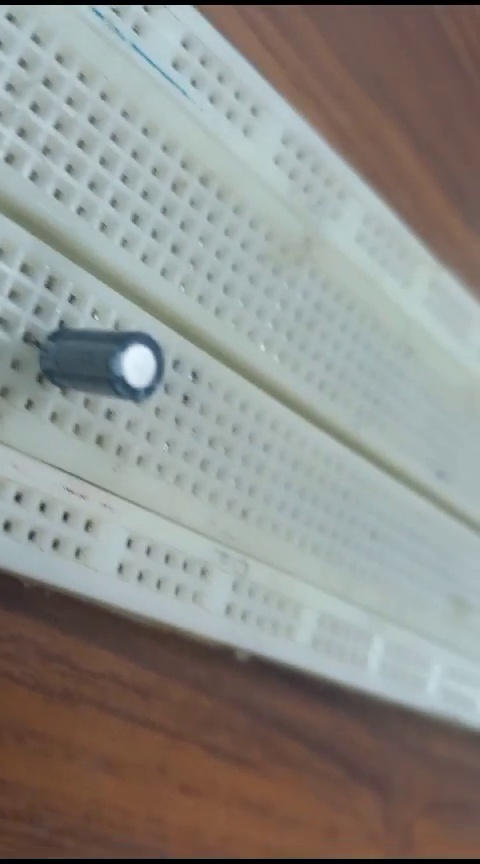capacitor: (24, 308, 172, 408)
